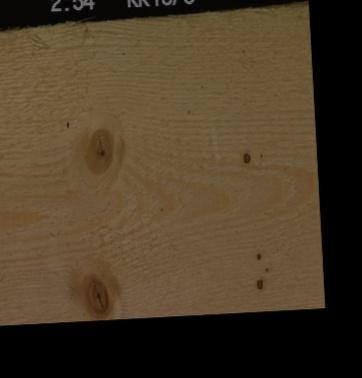dry_knot: (240, 151, 250, 164), (254, 278, 262, 289), (253, 251, 261, 260)
sound_knot: (83, 126, 114, 175), (80, 270, 110, 320)
